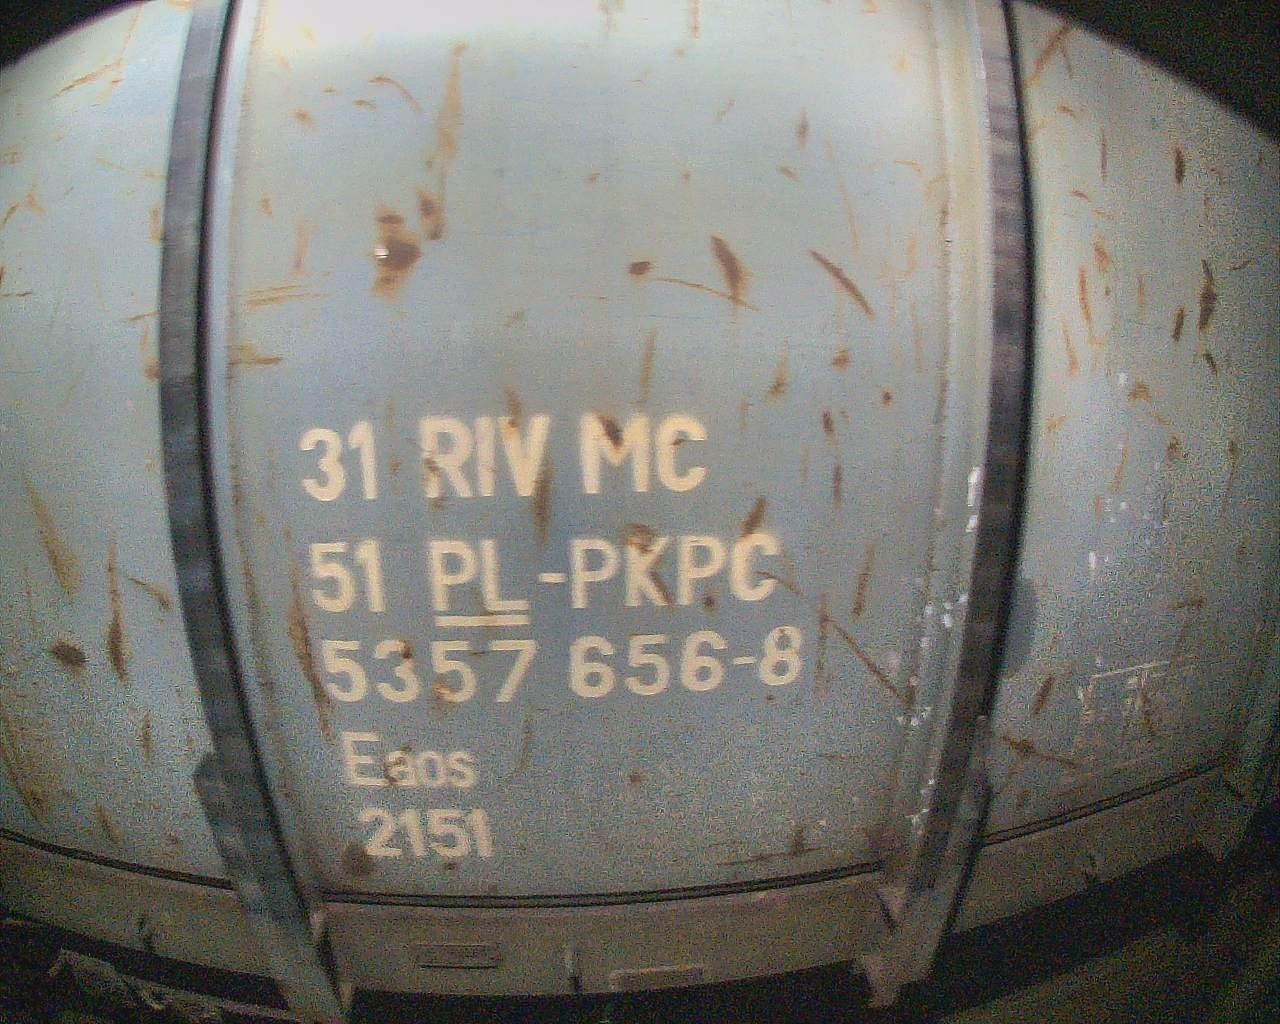UIC: (294, 408, 809, 861)
